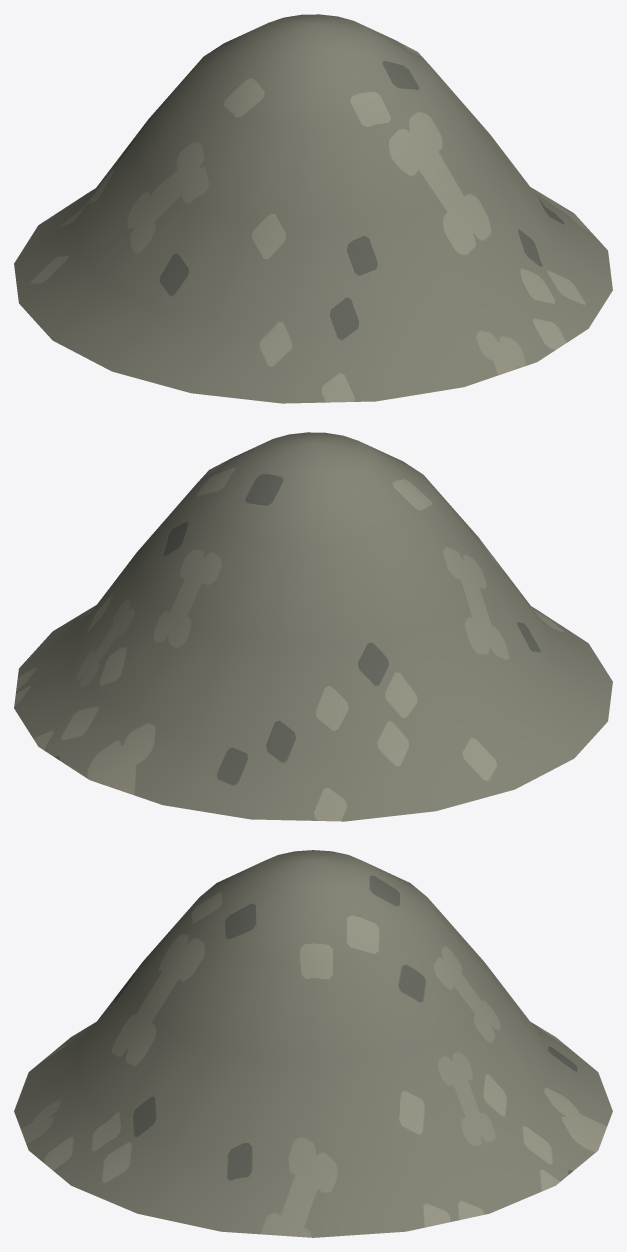
The model's file is skull_pile_texture.fbx.
The picture shows the model from 3 angles, top to bottom: view 1: azimuth 30°, elevation 25°; view 2: azimuth 150°, elevation 25°; view 3: azimuth 270°, elevation 25°; orthographic projection.
Parts seen in each view (by area): view 1: skull_pile_texture; view 2: skull_pile_texture; view 3: skull_pile_texture.
Part boxes in pixels (x1,y1,x2,y2): skull_pile_texture: (14, 14, 612, 403); skull_pile_texture: (14, 432, 612, 821); skull_pile_texture: (14, 850, 612, 1237).
Size of the model in its own units: 400 by 184 by 400.
